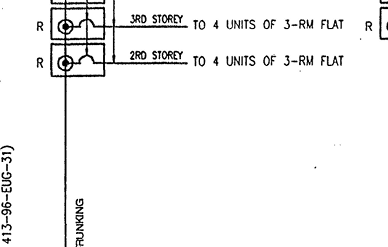Single Phase Tap-Off Unit: (45, 40, 112, 79), (46, 4, 111, 44)
